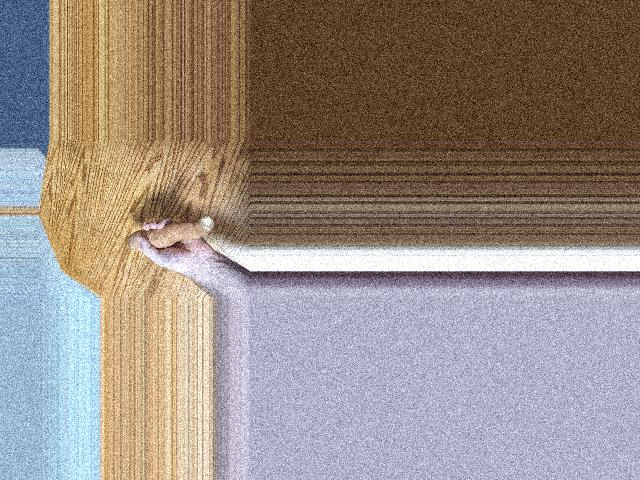sweet_potato: (134, 220, 221, 255)
